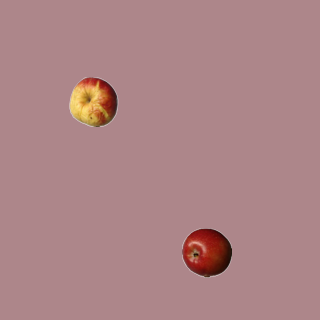Apple Braeburn: (181, 227, 231, 277)
Apple Red Yellow 1: (68, 76, 118, 126)
